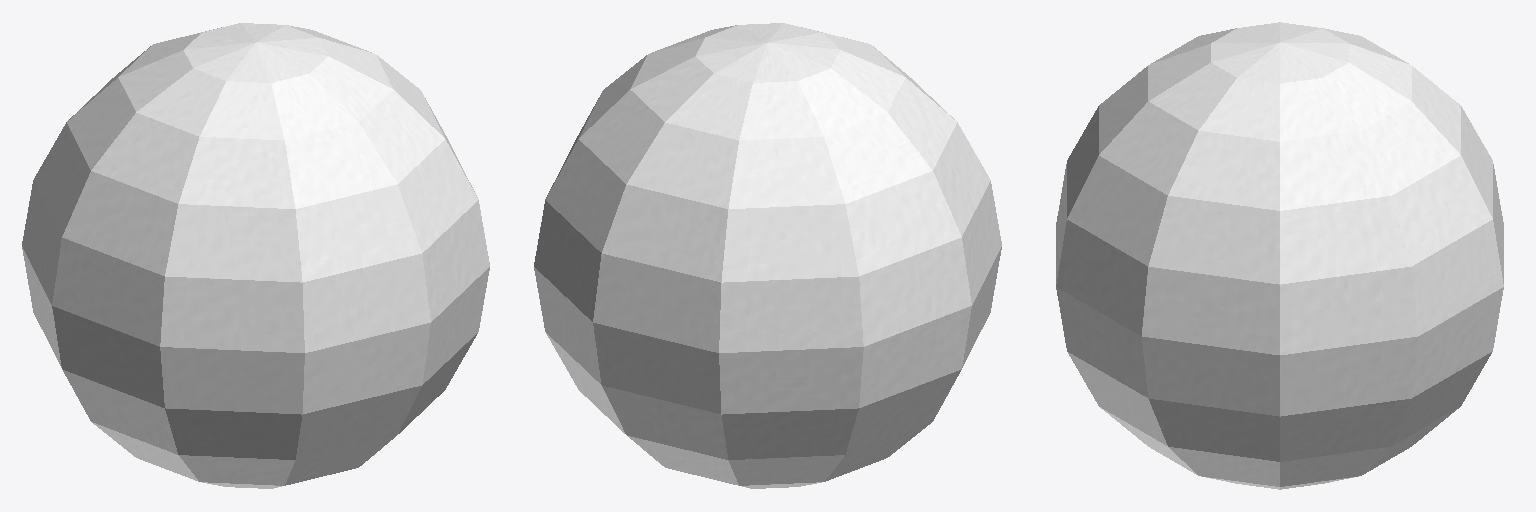
3 views of the same model, side by side, from view 1: azimuth 30°, elevation 25°; view 2: azimuth 150°, elevation 25°; view 3: azimuth 270°, elevation 25° (orthographic).
Visible parts, largest first — view 1: sunset; view 2: sunset; view 3: sunset.
Part boxes in pixels (x1,y1,x2,y2): sunset: (22, 23, 489, 488); sunset: (534, 23, 1001, 488); sunset: (1056, 22, 1503, 489).
Size of the model in its own units: 10.89 by 10.89 by 10.35.
1 materials, 1 textured.